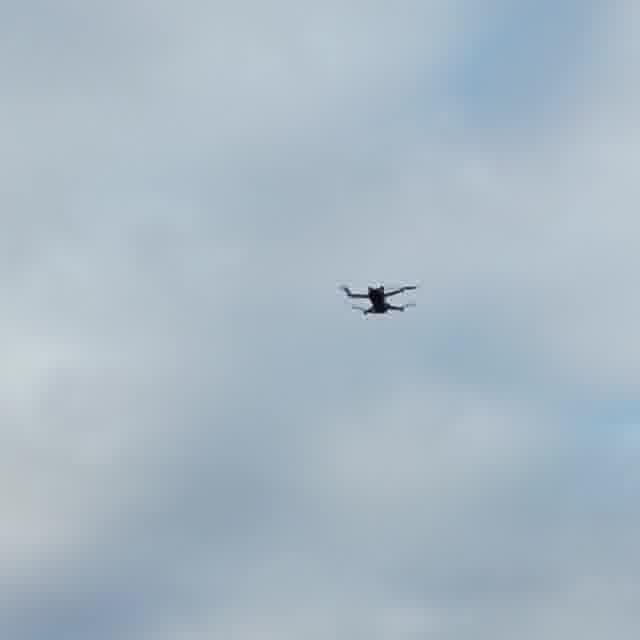Drohne: (342, 285, 416, 315)
